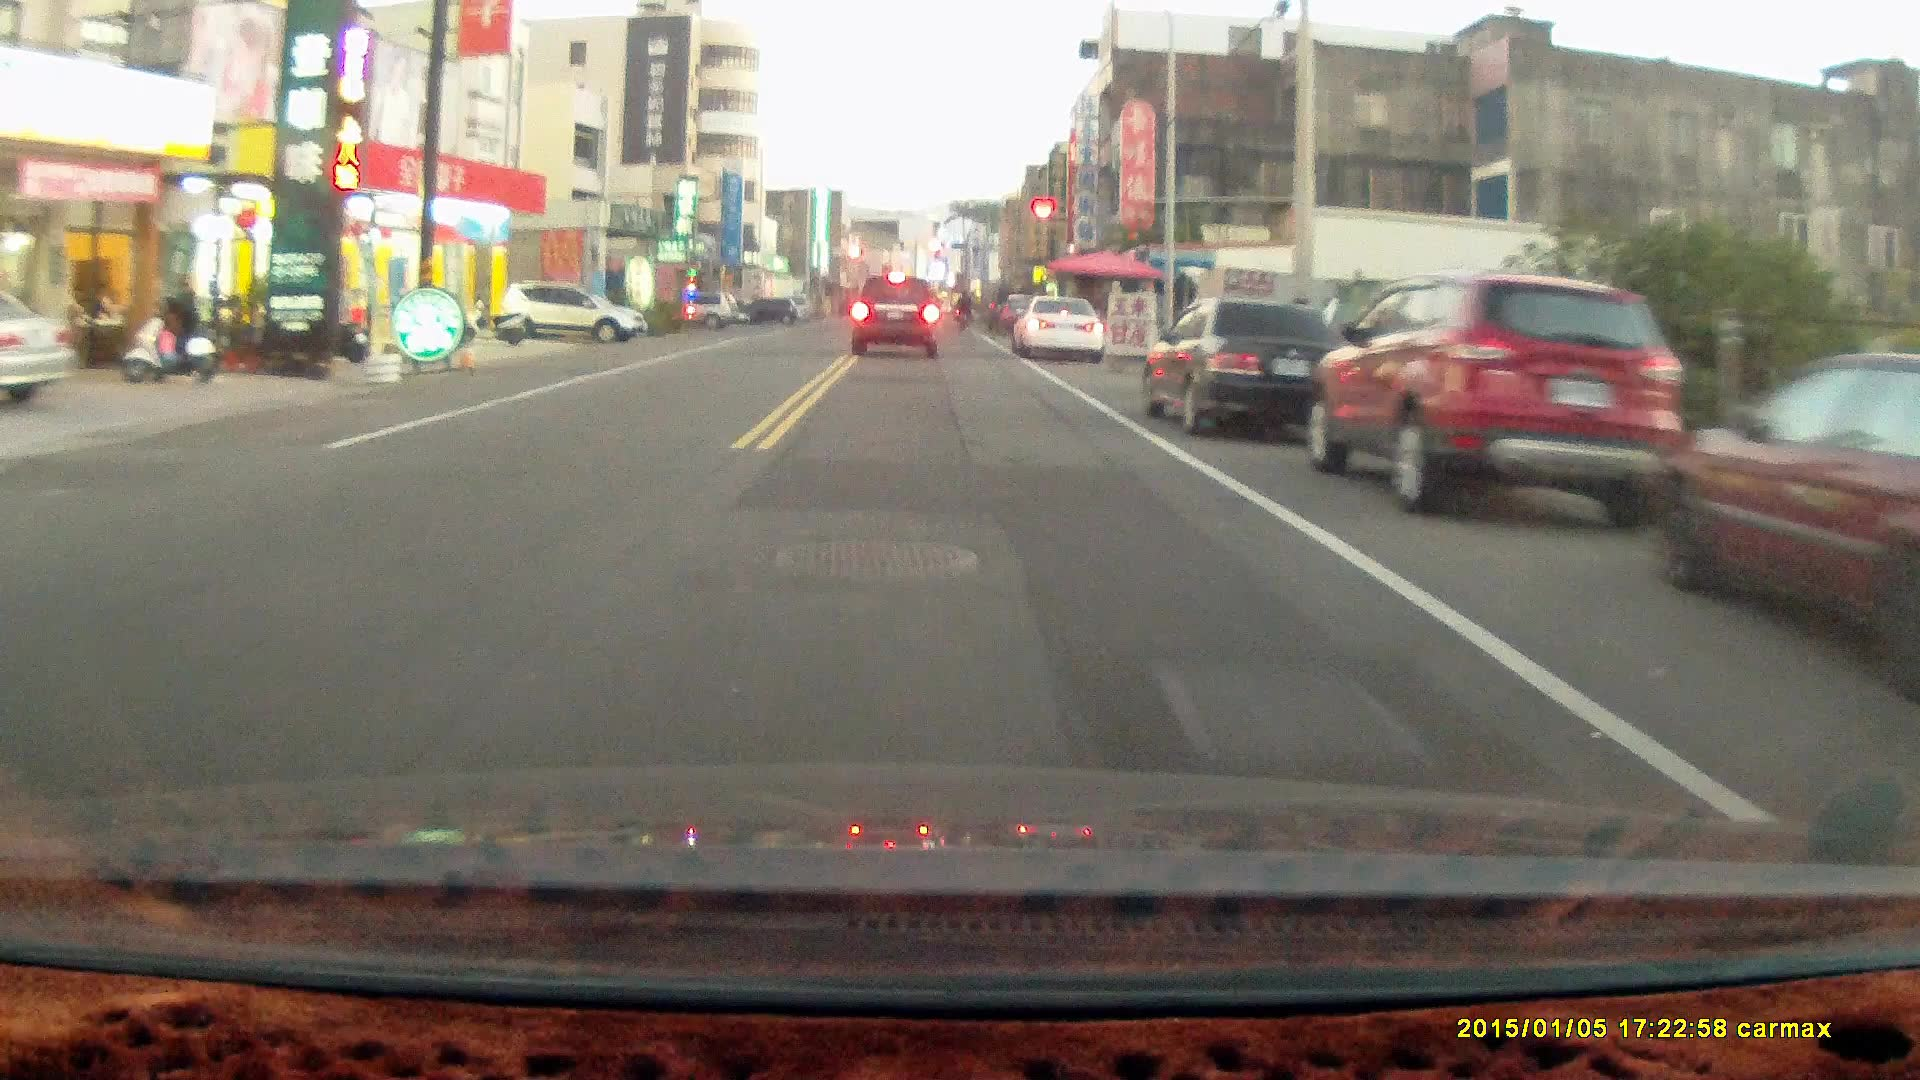vehicle: (1309, 276, 1681, 527), (1138, 297, 1338, 444), (501, 281, 654, 353), (1, 287, 75, 409), (852, 276, 942, 361), (1014, 299, 1108, 368)
